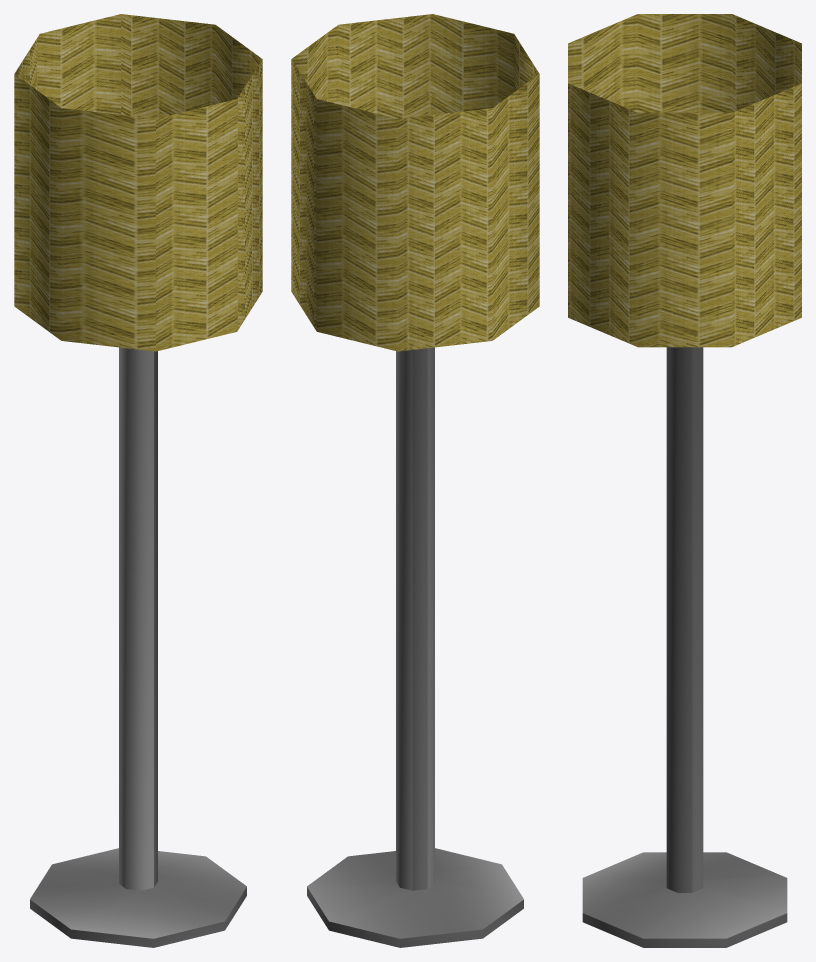
The model's file is lamp.fbx.
The picture shows the model from 3 angles, left to right: view 1: azimuth 30°, elevation 25°; view 2: azimuth 150°, elevation 25°; view 3: azimuth 270°, elevation 25°; orthographic projection.
Parts seen in each view (by area): view 1: lamp; view 2: lamp; view 3: lamp.
Boxes of the visible parts, x1,y1,x2,y2 form: lamp: [14, 14, 262, 947]; lamp: [291, 14, 539, 947]; lamp: [568, 14, 801, 947].
Size of the model in its own units: 64.87 by 258 by 64.87.
Materials: 1 (1 with a texture image).
